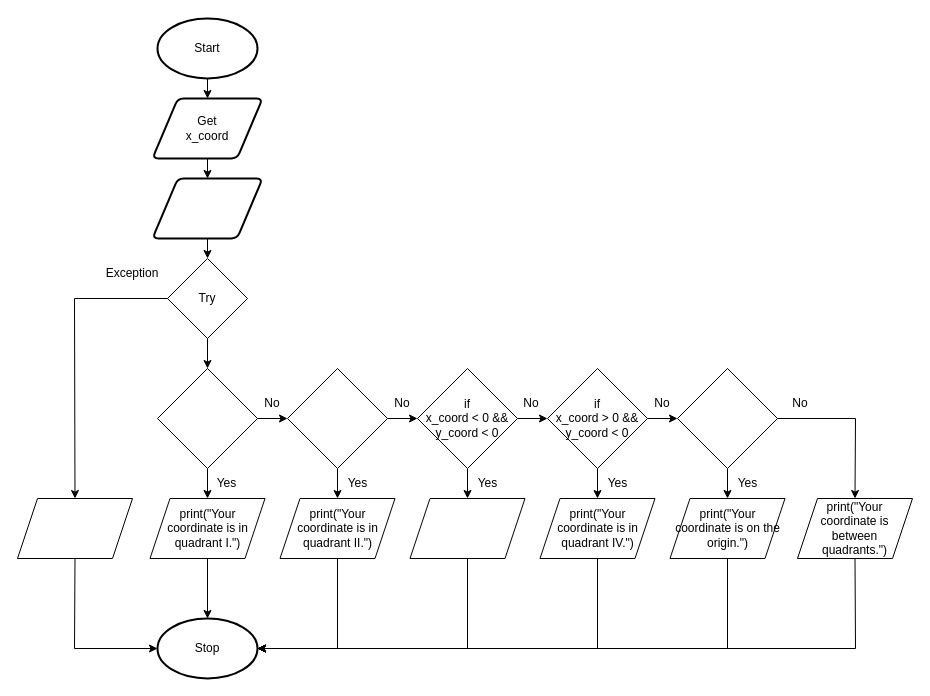
Image size: 930x696. Some labels were removed from this diagram. The centre of each missing label's shape, as x and y in pixels:
Get y_coord: pixel 207 208
if x_coord < 0 && y_coord > 0: pixel 337 418
if x_coord == 0 && y_coord == 0: pixel 727 418
if x_coord > 0 && y_coord > 0: pixel 207 418
print("Invalid Coordinates. Please Re-Run"): pixel 74 528
print("Your coordinate is in quadrant III."): pixel 467 528
